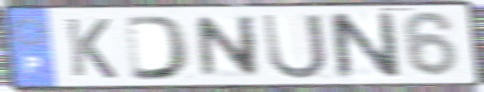6: (399, 9, 465, 81)
D: (123, 14, 194, 82)
K: (62, 16, 120, 81)
N: (324, 10, 405, 82), (193, 13, 263, 81)
U: (259, 11, 330, 81)
